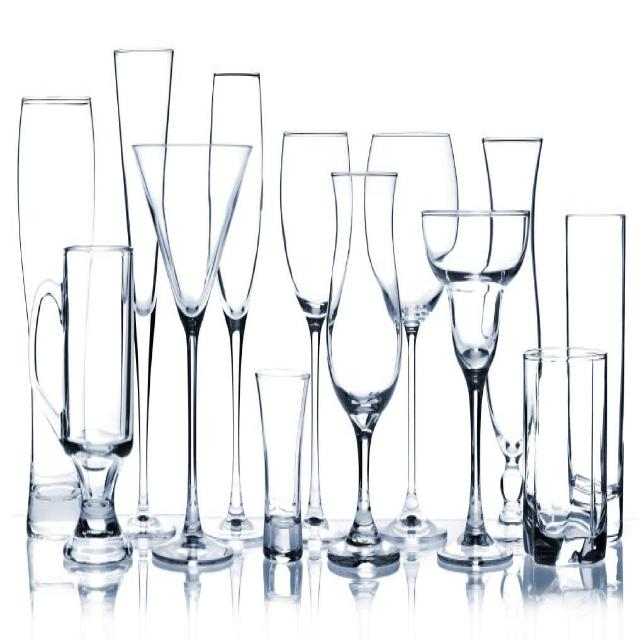non-organic waste: (129, 130, 253, 576), (31, 245, 138, 567), (323, 160, 400, 571), (439, 280, 515, 574), (256, 370, 307, 568)
